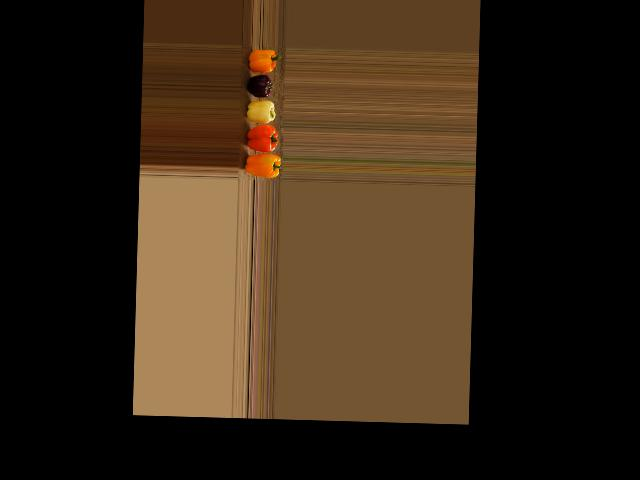bell_pepper: (242, 46, 281, 71)
